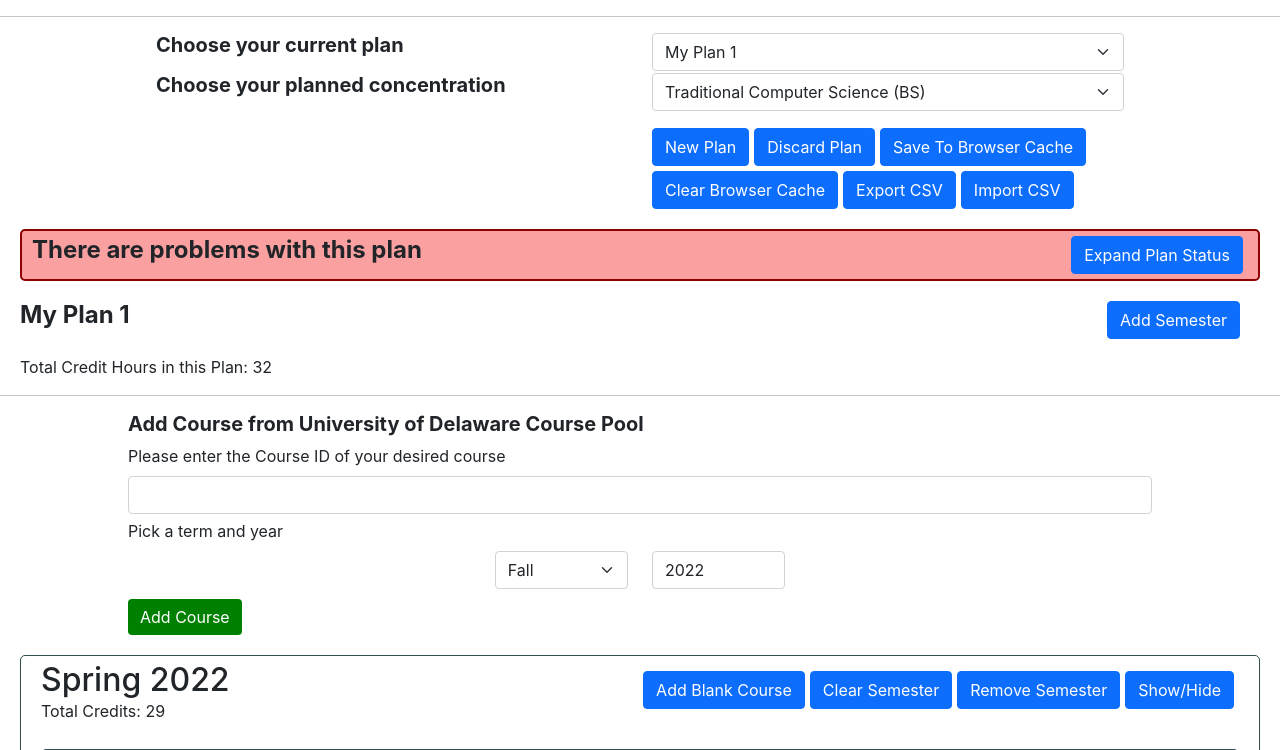
Test: Planner Tests › Test the show/hide import button
The width and height of the screenshot is (1280, 750).
expect the text "Upload a file" is not shown: met
Step 1. Click the button with test id "show-hide-import-button" → (1017,190), box [961,171,1074,209]
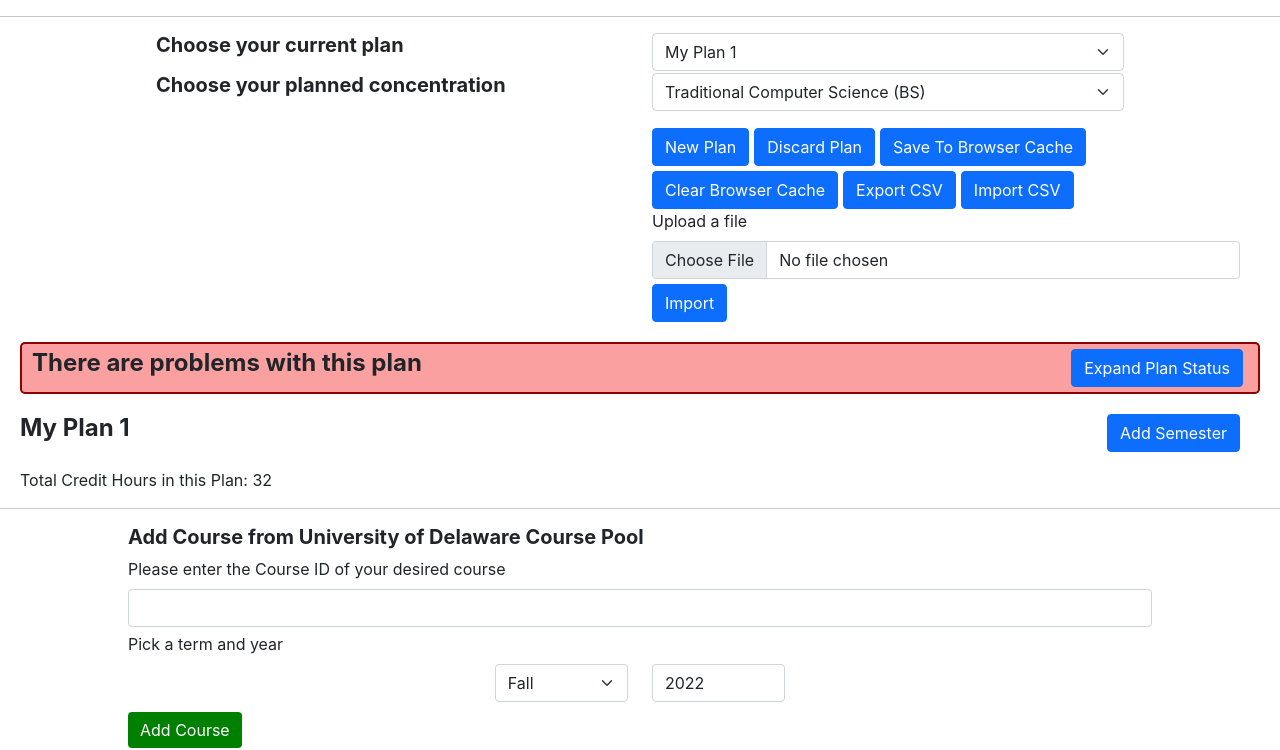
expect the text "Upload a file" is shown: met, box [652,209,747,233]
